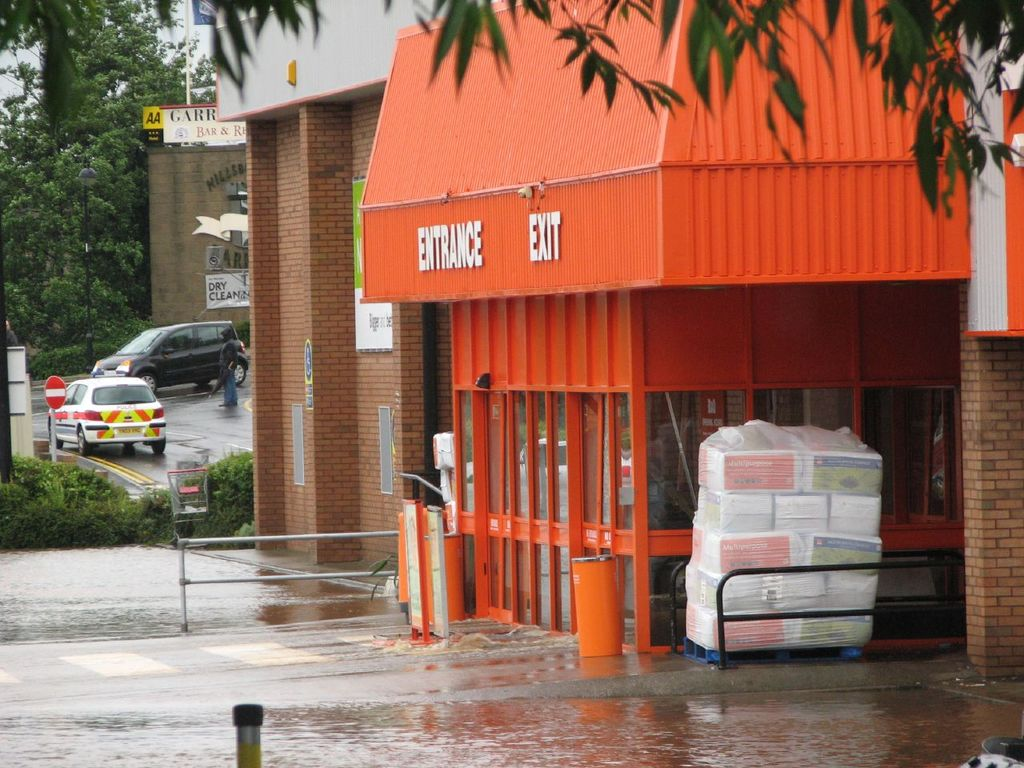Car: (90, 320, 248, 395), (47, 373, 166, 455)
